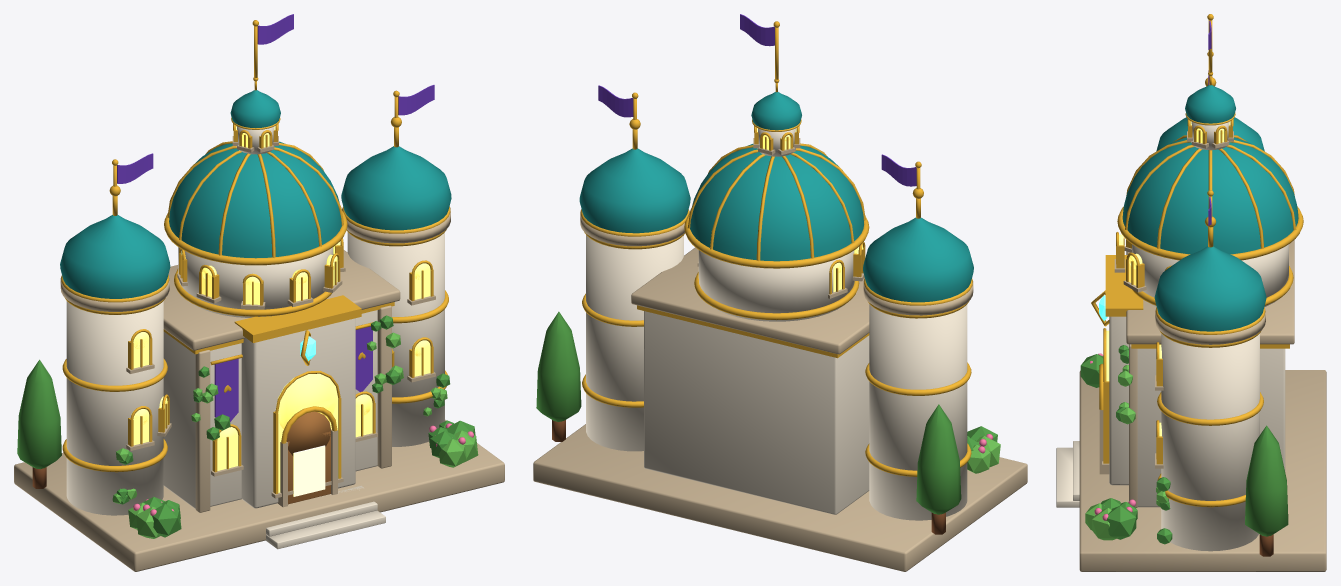
File: palat.glb
3 views of the same model, side by side, from view 1: azimuth 30°, elevation 25°; view 2: azimuth 150°, elevation 25°; view 3: azimuth 270°, elevation 25° (orthographic).
Visible parts, largest first — view 1: Palat.001; view 2: Palat.001; view 3: Palat.001.
Boxes of the visible parts, x1,y1,x2,y2 form: Palat.001: [14, 14, 504, 571]; Palat.001: [533, 14, 1027, 571]; Palat.001: [1056, 14, 1326, 571].
Size of the model in its own units: 6.51 by 6.89 by 3.61.
